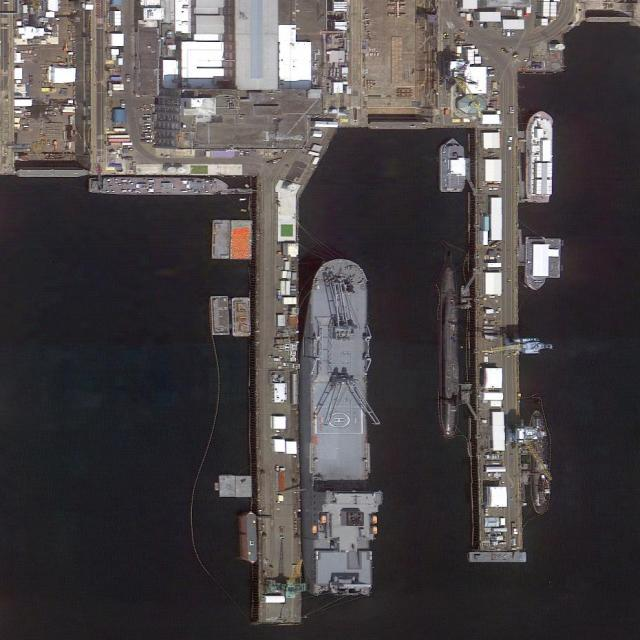Dock: (471, 127, 529, 559), (253, 177, 303, 623)
Other Ship: (439, 140, 466, 194)
Other Warship: (86, 178, 229, 197)
RoRo: (299, 259, 384, 601)
Submarine: (438, 270, 460, 436), (532, 412, 548, 515)
